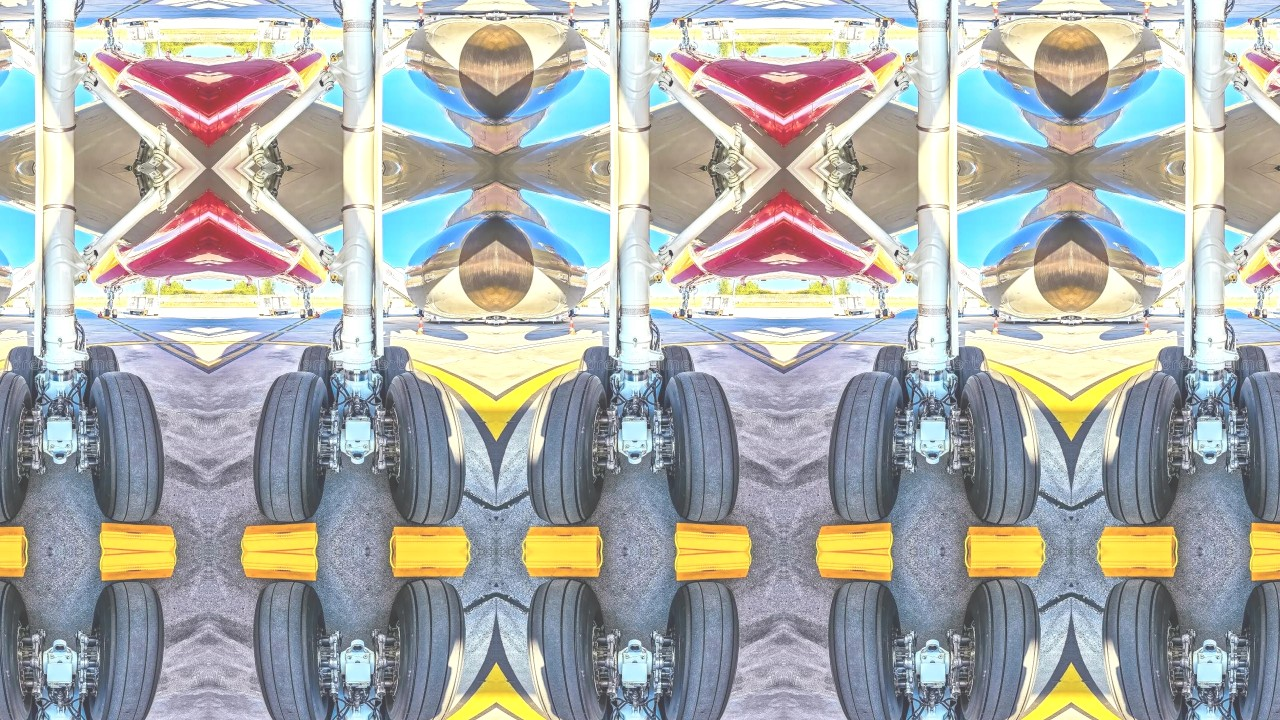chock: (99, 552, 178, 584), (238, 552, 317, 584), (675, 552, 754, 584), (814, 552, 893, 584), (99, 521, 178, 552), (238, 521, 317, 552), (675, 521, 754, 552), (814, 521, 893, 552), (389, 523, 471, 552), (521, 523, 603, 552), (965, 523, 1047, 552), (1097, 523, 1179, 552), (389, 553, 471, 581), (521, 553, 603, 581), (965, 553, 1047, 581), (1097, 553, 1179, 581), (1251, 552, 1280, 584), (1251, 521, 1280, 552), (0, 523, 27, 552), (0, 553, 27, 581), (102, 315, 109, 320), (307, 315, 314, 320), (678, 315, 685, 320), (883, 315, 890, 320), (1254, 315, 1261, 320), (102, 16, 109, 20), (307, 16, 314, 20), (678, 16, 685, 20), (883, 16, 890, 20), (1254, 16, 1261, 20)
wheel: (384, 372, 464, 524), (528, 372, 608, 524), (960, 372, 1040, 524), (1104, 372, 1184, 524), (384, 580, 464, 720), (528, 580, 608, 720), (960, 580, 1040, 720), (1104, 580, 1184, 720), (88, 372, 163, 521), (253, 372, 328, 521), (664, 372, 739, 521), (829, 372, 904, 521), (88, 583, 163, 720), (253, 583, 328, 720), (664, 583, 739, 720), (829, 583, 904, 720), (1240, 372, 1280, 521), (1240, 583, 1280, 720), (0, 372, 32, 524), (0, 580, 32, 720), (82, 345, 120, 404), (296, 345, 334, 404), (658, 345, 696, 404), (872, 345, 910, 404), (1234, 345, 1272, 404), (4, 345, 38, 400), (378, 345, 412, 400), (580, 345, 614, 400), (954, 345, 988, 400), (1156, 345, 1190, 400), (82, 700, 120, 720), (296, 700, 334, 720), (658, 700, 696, 720), (872, 700, 910, 720), (1234, 700, 1272, 720), (4, 704, 38, 720), (378, 704, 412, 720), (580, 704, 614, 720), (954, 704, 988, 720), (1156, 704, 1190, 720), (111, 308, 116, 318), (300, 308, 305, 318), (687, 308, 692, 318), (876, 308, 881, 318), (1263, 308, 1268, 318), (111, 18, 116, 27), (300, 18, 305, 27), (687, 18, 692, 27), (876, 18, 881, 27), (1263, 18, 1268, 27), (103, 20, 108, 28), (308, 20, 313, 28), (679, 20, 684, 28), (884, 20, 889, 28), (1255, 20, 1260, 28), (103, 309, 108, 317), (308, 309, 313, 317), (679, 309, 684, 317), (884, 309, 889, 317), (1255, 309, 1260, 317)
